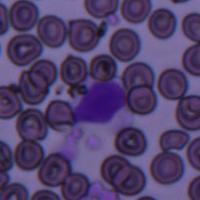L: (74, 79, 128, 126)
